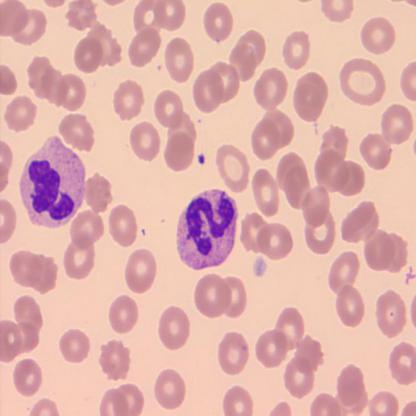Segmented neutrophil: (17, 134, 87, 231), (174, 186, 238, 272)
